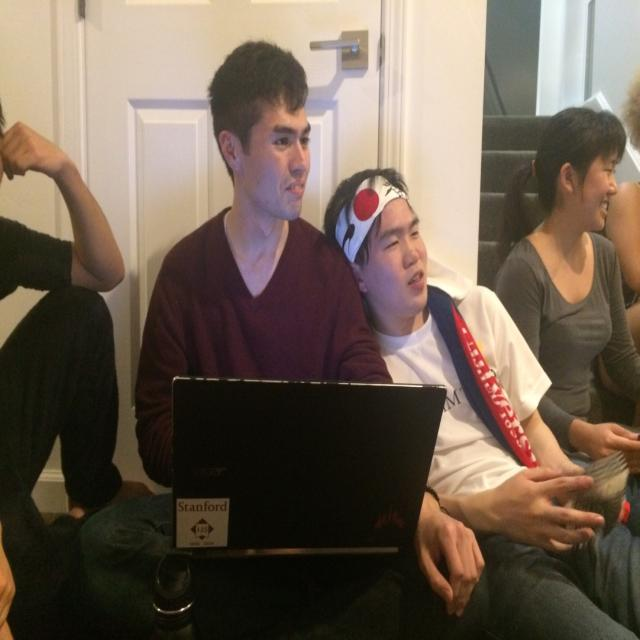body: (64, 32, 488, 640), (318, 163, 640, 639), (0, 95, 128, 622), (488, 105, 639, 551), (595, 80, 638, 368)
